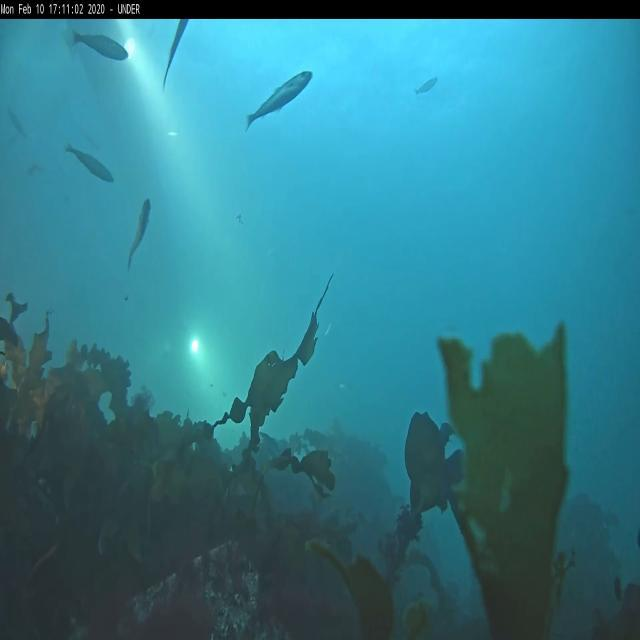fish: (247, 71, 313, 131), (66, 142, 115, 184), (161, 21, 191, 89), (71, 28, 127, 63), (128, 198, 152, 270), (414, 76, 438, 98)
